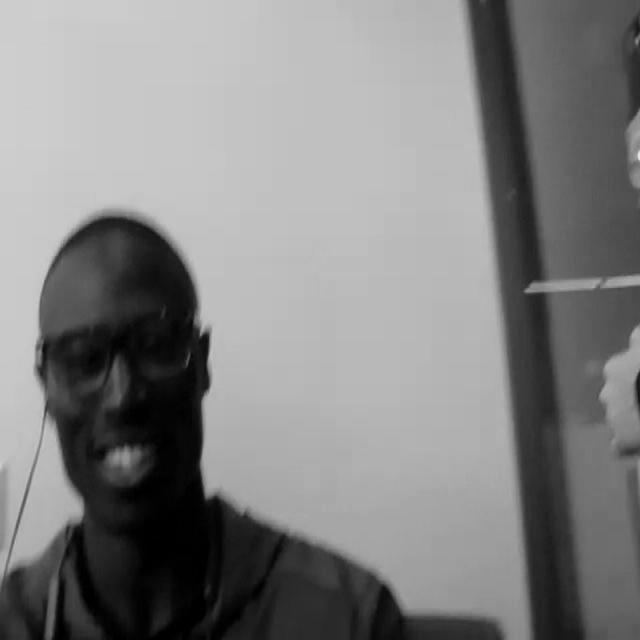real: (39, 216, 212, 530)
